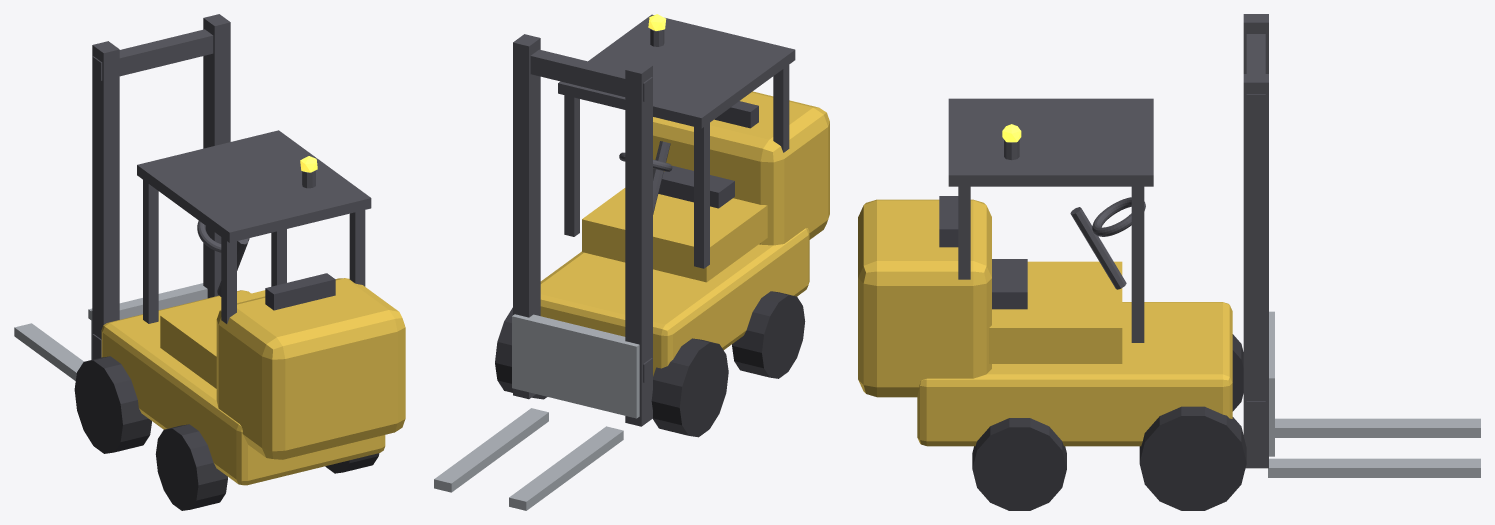
File: bt-d2-forklift.glb
The picture shows the model from 3 angles, left to right: view 1: azimuth 30°, elevation 25°; view 2: azimuth 150°, elevation 25°; view 3: azimuth 270°, elevation 25°; orthographic projection. The views are drawn at different scales.
Parts seen in each view (by area): view 1: bt-d2-forklift_counter, bt-d2-forklift_roof, bt-d2-forklift_chassis, bt-d2-forklift_mast-1, bt-d2-forklift_wh-1_-0.55, bt-d2-forklift_wh-1_0.55, bt-d2-forklift_mast1, bt-d2-forklift_hood, bt-d2-forklift_cross1, bt-d2-forklift_post-1-1, bt-d2-forklift_seatback, bt-d2-forklift_fork-1 (+5 smaller); view 2: bt-d2-forklift_chassis, bt-d2-forklift_counter, bt-d2-forklift_roof, bt-d2-forklift_carriage, bt-d2-forklift_hood, bt-d2-forklift_mast-1, bt-d2-forklift_mast1, bt-d2-forklift_wh-1_-0.55, bt-d2-forklift_wh-1_0.55, bt-d2-forklift_fork1, bt-d2-forklift_fork-1, bt-d2-forklift_cross1 (+7 smaller); view 3: bt-d2-forklift_chassis, bt-d2-forklift_counter, bt-d2-forklift_roof, bt-d2-forklift_hood, bt-d2-forklift_mast1, bt-d2-forklift_wh1_-0.55, bt-d2-forklift_wh1_0.55, bt-d2-forklift_fork1, bt-d2-forklift_fork-1, bt-d2-forklift_post1-1, bt-d2-forklift_seat, bt-d2-forklift_post11 (+7 smaller).
Boxes of the visible parts, <box> form: bt-d2-forklift_counter: <box>216,278,405,459</box>; bt-d2-forklift_roof: <box>137,130,371,242</box>; bt-d2-forklift_chassis: <box>101,290,385,485</box>; bt-d2-forklift_mast-1: <box>92,41,119,359</box>; bt-d2-forklift_wh-1_-0.55: <box>74,356,151,453</box>; bt-d2-forklift_wh-1_0.55: <box>155,424,227,510</box>; bt-d2-forklift_mast1: <box>203,14,230,298</box>; bt-d2-forklift_hood: <box>160,290,265,388</box>; bt-d2-forklift_cross1: <box>92,29,213,80</box>; bt-d2-forklift_post-1-1: <box>143,180,158,323</box>; bt-d2-forklift_seatback: <box>265,273,335,310</box>; bt-d2-forklift_fork-1: <box>14,323,83,380</box>; bt-d2-forklift_chassis: <box>540,228,809,376</box>; bt-d2-forklift_counter: <box>653,91,829,245</box>; bt-d2-forklift_roof: <box>558,14,795,128</box>; bt-d2-forklift_carriage: <box>512,314,639,418</box>; bt-d2-forklift_hood: <box>582,188,767,282</box>; bt-d2-forklift_mast-1: <box>625,61,652,426</box>; bt-d2-forklift_mast1: <box>513,34,540,399</box>; bt-d2-forklift_wh-1_-0.55: <box>651,338,728,437</box>; bt-d2-forklift_wh-1_0.55: <box>732,291,805,378</box>; bt-d2-forklift_fork1: <box>434,408,548,492</box>; bt-d2-forklift_fork-1: <box>509,426,623,510</box>; bt-d2-forklift_cross1: <box>530,49,652,101</box>; bt-d2-forklift_chassis: <box>917,302,1232,446</box>; bt-d2-forklift_counter: <box>858,199,991,397</box>; bt-d2-forklift_roof: <box>948,98,1153,186</box>; bt-d2-forklift_hood: <box>989,261,1122,363</box>; bt-d2-forklift_mast1: <box>1243,74,1268,468</box>; bt-d2-forklift_wh1_-0.55: <box>1139,406,1246,510</box>; bt-d2-forklift_wh1_0.55: <box>972,418,1066,510</box>; bt-d2-forklift_fork1: <box>1268,458,1480,477</box>; bt-d2-forklift_fork-1: <box>1275,418,1480,437</box>; bt-d2-forklift_post1-1: <box>1131,186,1144,342</box>; bt-d2-forklift_seat: <box>992,259,1027,309</box>; bt-d2-forklift_post11: <box>958,186,970,279</box>.
Bounding box in the file's own units: 1.48 × 2.89 × 3.95.
